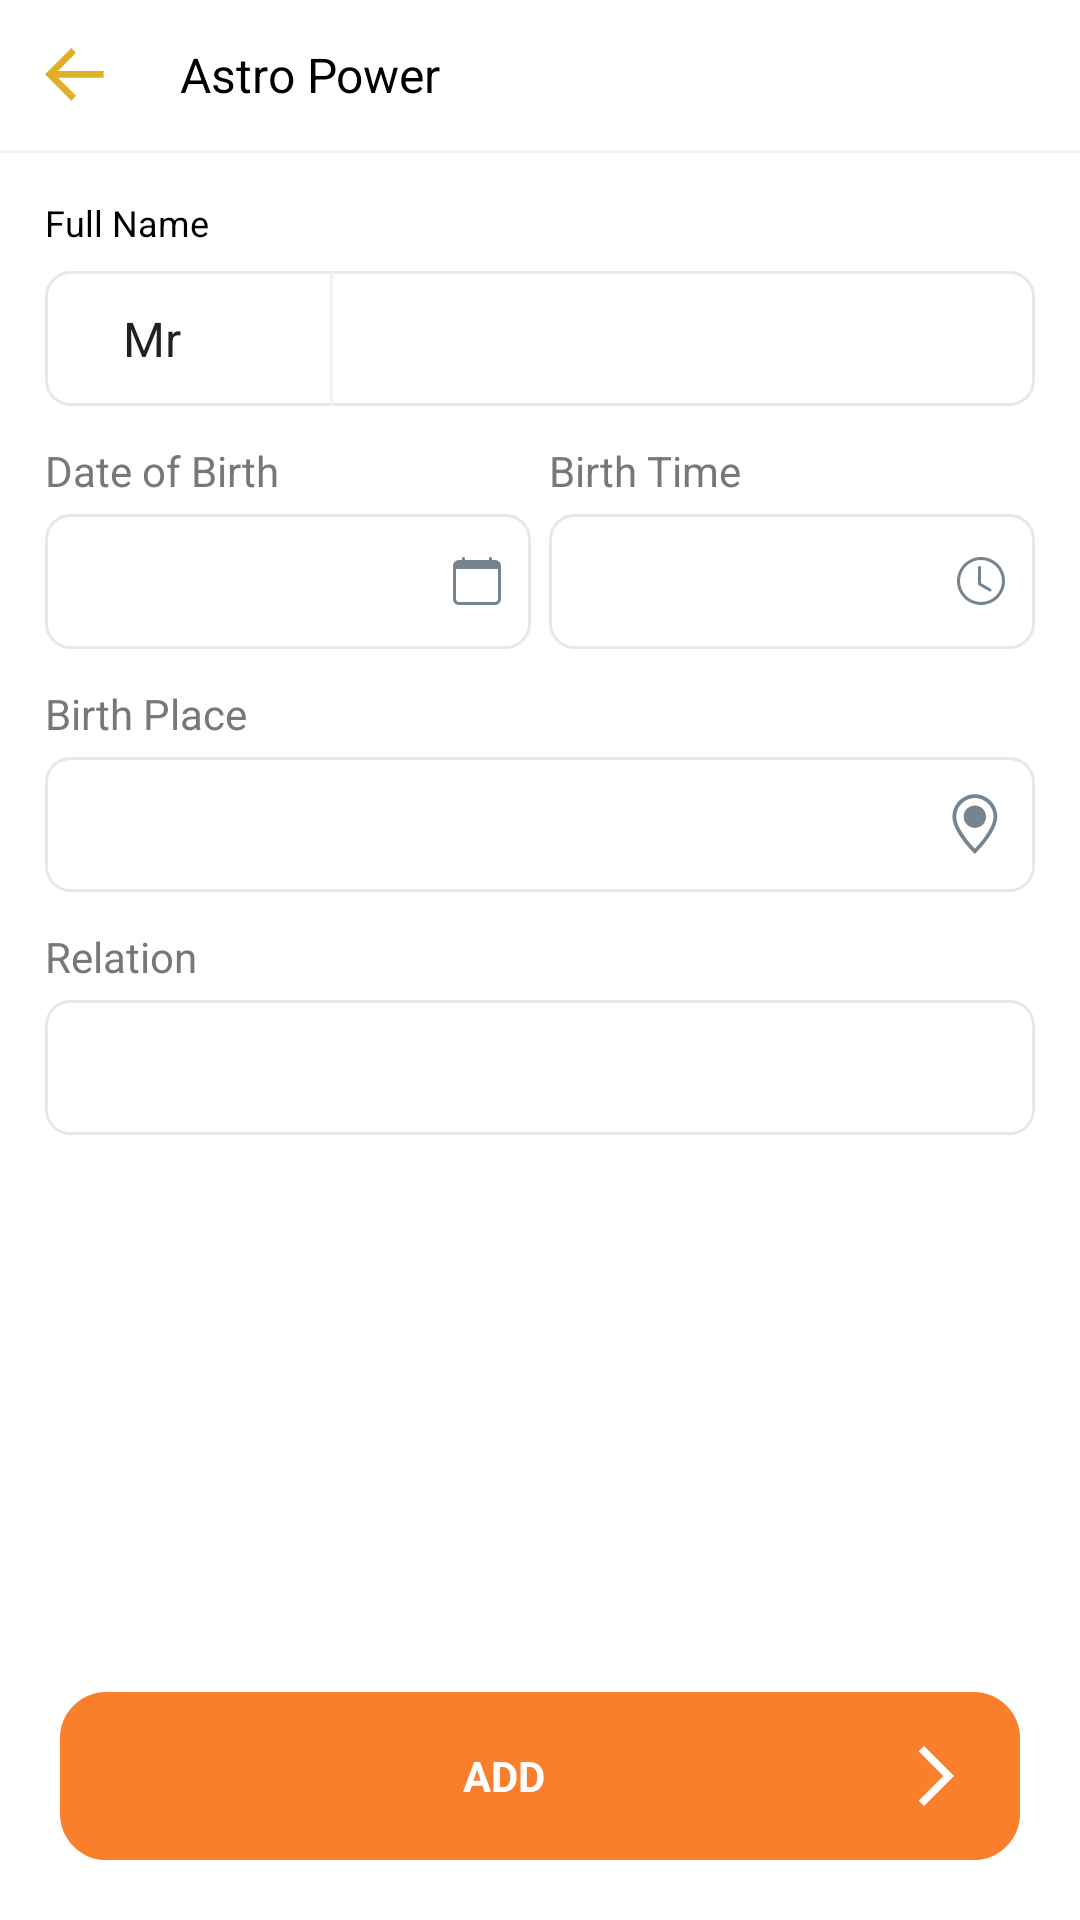

Where to tap for icons on this 1080*1920 app screen, as [x,y]:
arrow back: [74,74]
